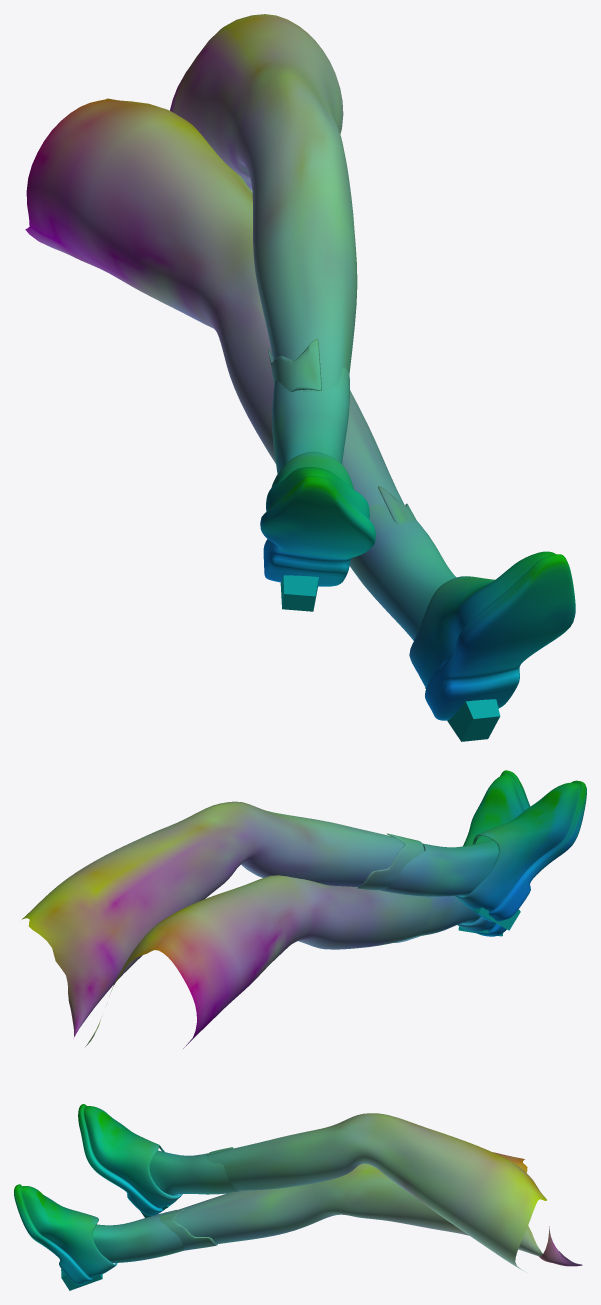
The model's file is lounge-legs.glb.
The picture shows the model from 3 angles, top to bottom: view 1: azimuth 30°, elevation 25°; view 2: azimuth 150°, elevation 25°; view 3: azimuth 270°, elevation 25°; orthographic projection. The views are drawn at different scales.
Parts seen in each view (by area): view 1: Human_baked, Human.shoes03_baked, shaft_baked, heel.R_baked, heel.L_baked; view 2: Human_baked, Human.shoes03_baked, shaft_baked; view 3: Human_baked, Human.shoes03_baked, shaft_baked, heel.R_baked.
Part boxes in pixels (x1=…): Human_baked: x1=25, y1=14, x2=404, y2=506; Human.shoes03_baked: x1=260, y1=367, x2=575, y2=720; shaft_baked: x1=268, y1=339, x2=416, y2=524; heel.R_baked: x1=425, y1=687, x2=500, y2=741; heel.L_baked: x1=280, y1=575, x2=318, y2=611; Human_baked: x1=22, y1=801, x2=432, y2=1048; Human.shoes03_baked: x1=380, y1=770, x2=586, y2=936; shaft_baked: x1=357, y1=833, x2=425, y2=942; Human_baked: x1=174, y1=1113, x2=582, y2=1271; Human.shoes03_baked: x1=14, y1=1104, x2=239, y2=1284; shaft_baked: x1=159, y1=1147, x2=233, y2=1250; heel.R_baked: x1=61, y1=1269, x2=102, y2=1290.
Size of the model in its own units: 0.5631 by 0.4559 by 1.17.
